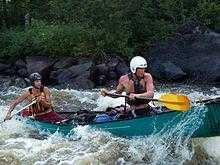kayak: (12, 95, 202, 140)
